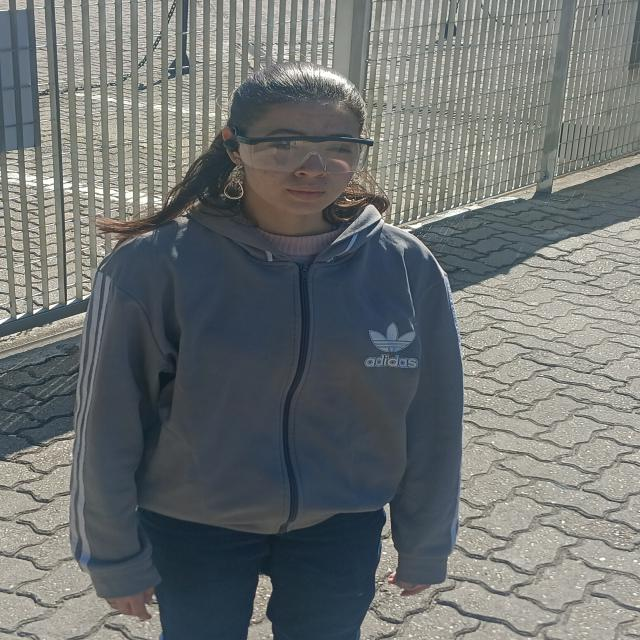oculos-epi: (236, 135, 373, 173)
